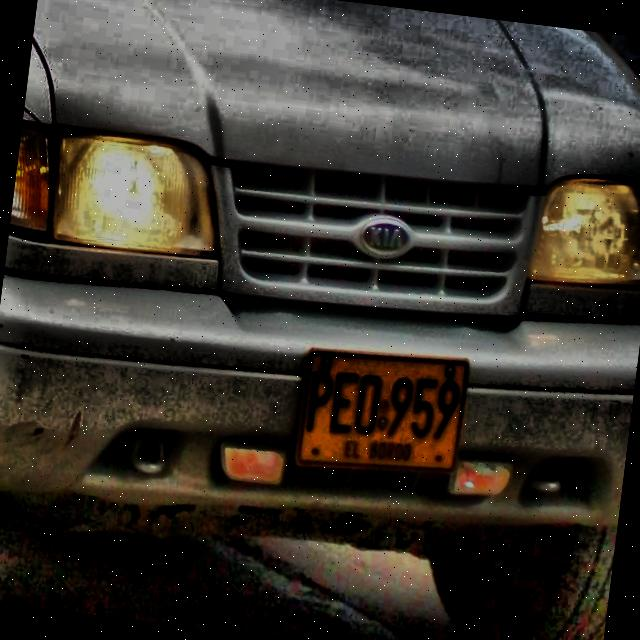5: (407, 376, 440, 441)
9: (430, 379, 462, 442), (385, 375, 416, 439)
E: (328, 370, 361, 437)
O: (352, 373, 383, 437)
P: (304, 369, 335, 435)
Q: (293, 346, 470, 476)
